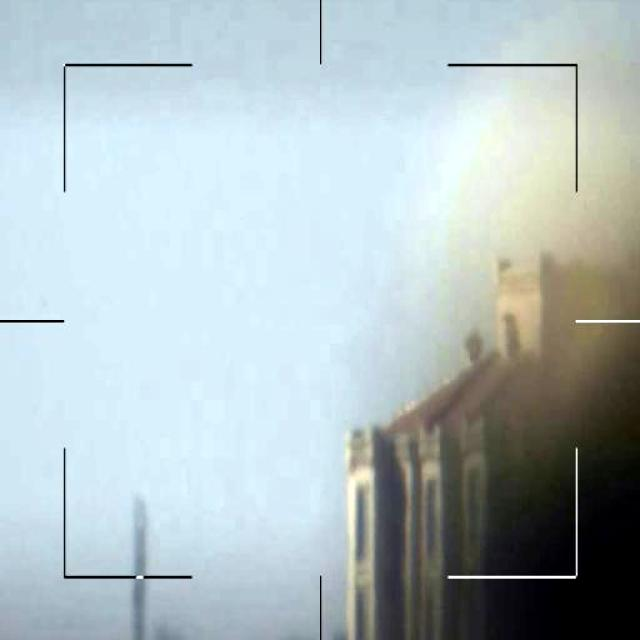bird: (411, 271, 465, 340)
